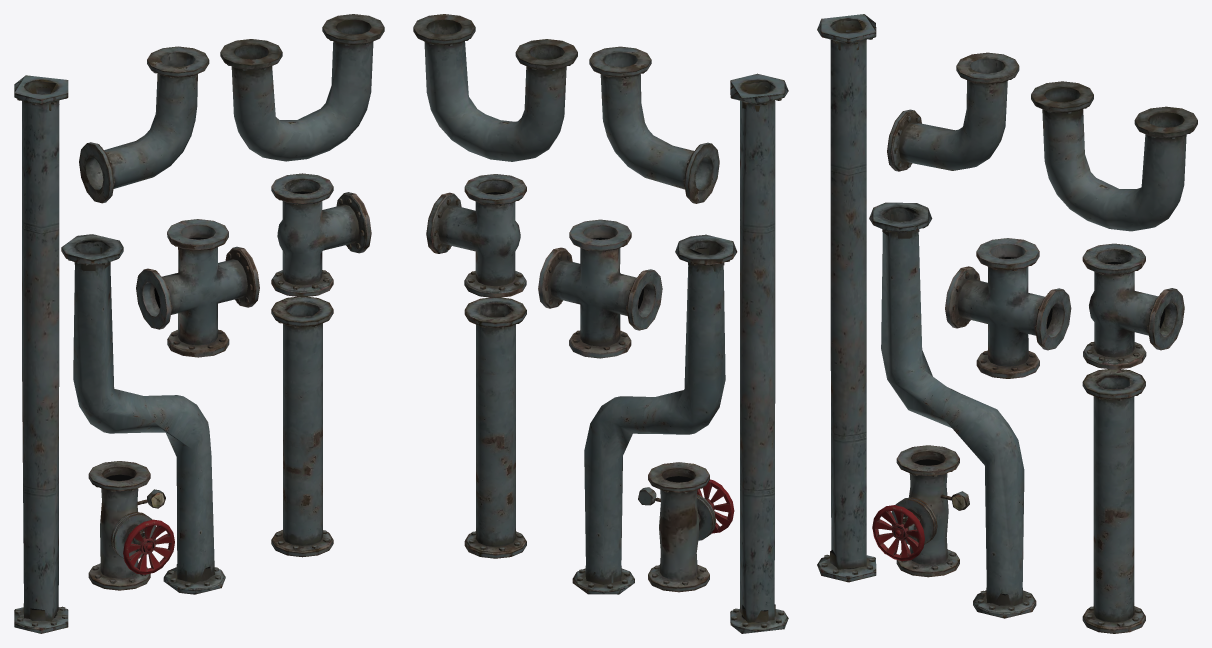
Rendered from modular_industrial_pipes_01.glb.
3 views of the same model, side by side, from view 1: azimuth 30°, elevation 25°; view 2: azimuth 150°, elevation 25°; view 3: azimuth 330°, elevation 25° (orthographic).
Visible parts, largest first — view 1: modular_industrial_pipes_01_pipe02, modular_industrial_pipes_01_pipe03, modular_industrial_pipes_01_pipe05, modular_industrial_pipes_01_pipe01, modular_industrial_pipes_01_pipe07, modular_industrial_pipes_01_pipe04, modular_industrial_pipes_01_pipe06, modular_industrial_pipes_01_pipe08; view 2: modular_industrial_pipes_01_pipe02, modular_industrial_pipes_01_pipe03, modular_industrial_pipes_01_pipe05, modular_industrial_pipes_01_pipe01, modular_industrial_pipes_01_pipe07, modular_industrial_pipes_01_pipe04, modular_industrial_pipes_01_pipe06, modular_industrial_pipes_01_pipe08; view 3: modular_industrial_pipes_01_pipe02, modular_industrial_pipes_01_pipe03, modular_industrial_pipes_01_pipe05, modular_industrial_pipes_01_pipe01, modular_industrial_pipes_01_pipe07, modular_industrial_pipes_01_pipe06, modular_industrial_pipes_01_pipe04, modular_industrial_pipes_01_pipe08.
Boxes of the visible parts, box(x1,y1,x2,y2) form: modular_industrial_pipes_01_pipe02: box(14, 75, 68, 633); modular_industrial_pipes_01_pipe03: box(61, 234, 225, 594); modular_industrial_pipes_01_pipe05: box(220, 14, 384, 161); modular_industrial_pipes_01_pipe01: box(271, 296, 333, 557); modular_industrial_pipes_01_pipe07: box(136, 219, 259, 357); modular_industrial_pipes_01_pipe04: box(79, 46, 209, 203); modular_industrial_pipes_01_pipe06: box(271, 173, 371, 297); modular_industrial_pipes_01_pipe08: box(88, 461, 174, 590); modular_industrial_pipes_01_pipe02: box(730, 73, 788, 633); modular_industrial_pipes_01_pipe03: box(572, 234, 737, 594); modular_industrial_pipes_01_pipe05: box(413, 14, 577, 161); modular_industrial_pipes_01_pipe01: box(464, 297, 526, 558); modular_industrial_pipes_01_pipe07: box(538, 219, 662, 358); modular_industrial_pipes_01_pipe04: box(589, 46, 719, 203); modular_industrial_pipes_01_pipe06: box(426, 174, 526, 297); modular_industrial_pipes_01_pipe08: box(638, 462, 734, 592); modular_industrial_pipes_01_pipe02: box(817, 14, 876, 582); modular_industrial_pipes_01_pipe03: box(869, 202, 1036, 618); modular_industrial_pipes_01_pipe05: box(1031, 81, 1197, 231); modular_industrial_pipes_01_pipe01: box(1082, 369, 1145, 633); modular_industrial_pipes_01_pipe07: box(945, 238, 1071, 378); modular_industrial_pipes_01_pipe06: box(1082, 243, 1184, 369); modular_industrial_pipes_01_pipe04: box(887, 52, 1019, 171); modular_industrial_pipes_01_pipe08: box(872, 445, 969, 577).
Size of the model in its own units: 1.4 by 1.95 by 0.3073.
2 materials, 2 textured.
